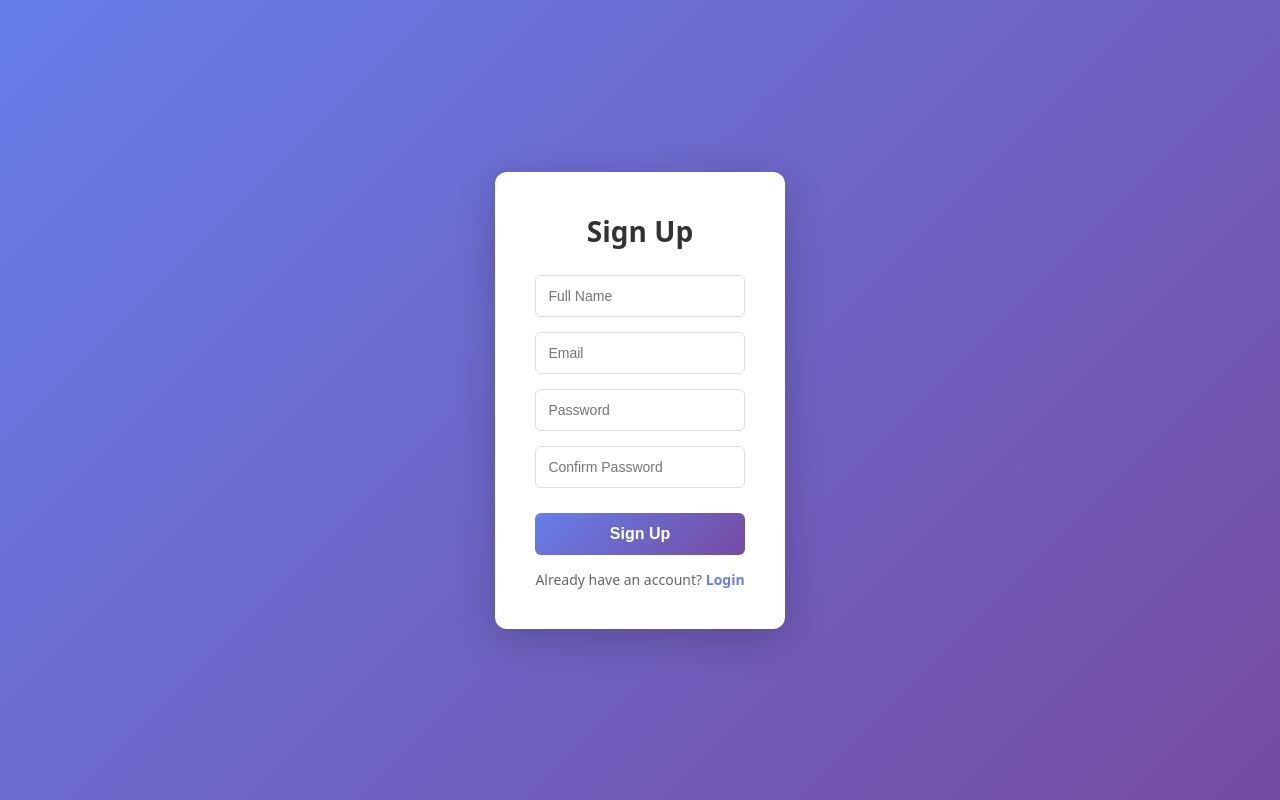
Test: Signup Page (separate file) › submits valid inputs and redirects on success
In the field with placeholder "Full Name": [640, 296] box [535, 274, 745, 316], type "Carol"
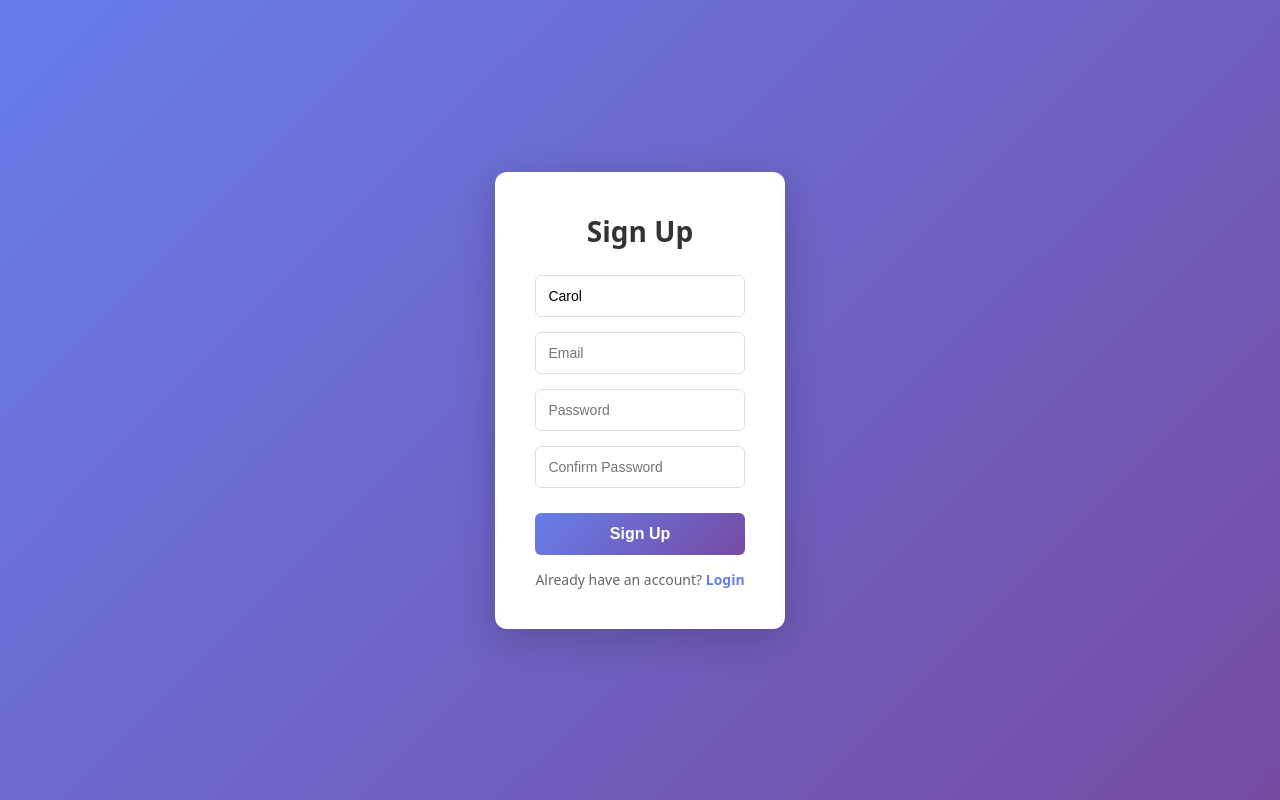
In the field with placeholder "Email": [640, 352] box [535, 332, 745, 374], type "carol@example.com"
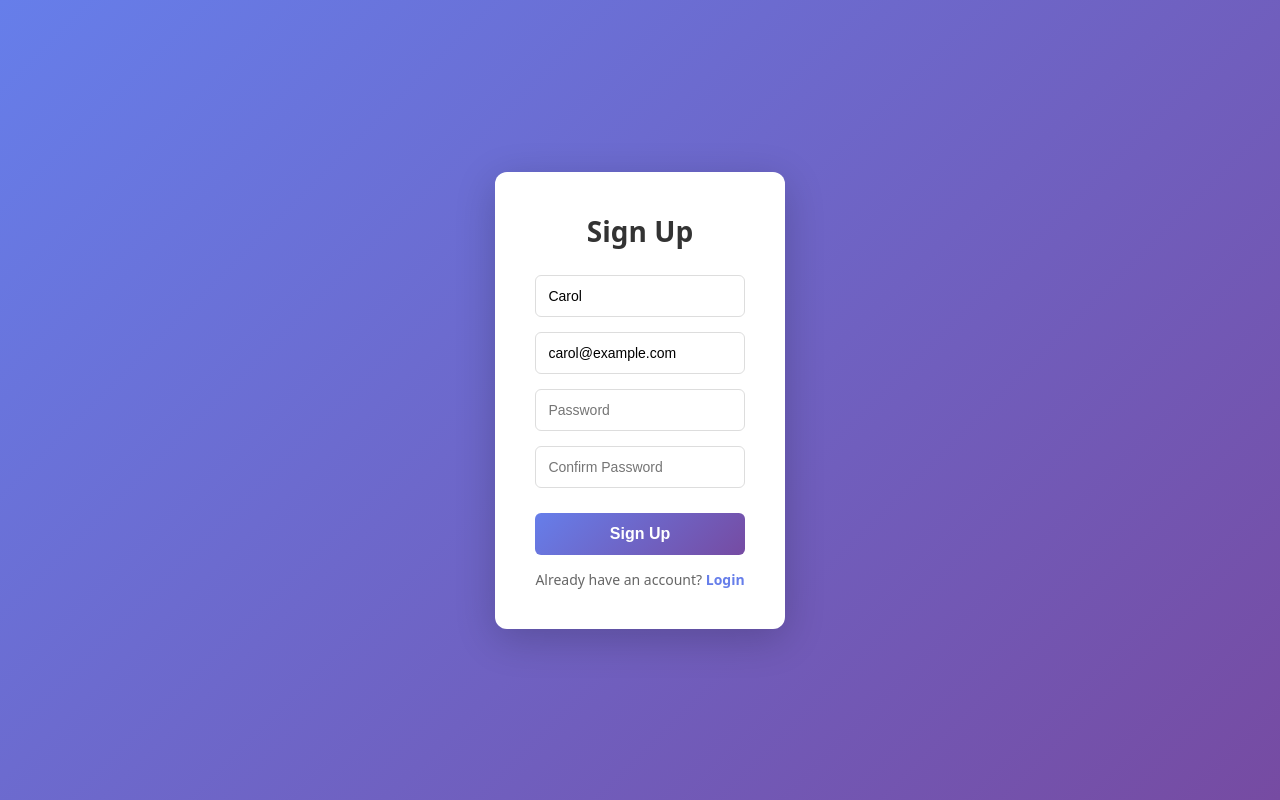
In the password field with placeholder "Password": [640, 410] box [535, 388, 745, 430], type "password"
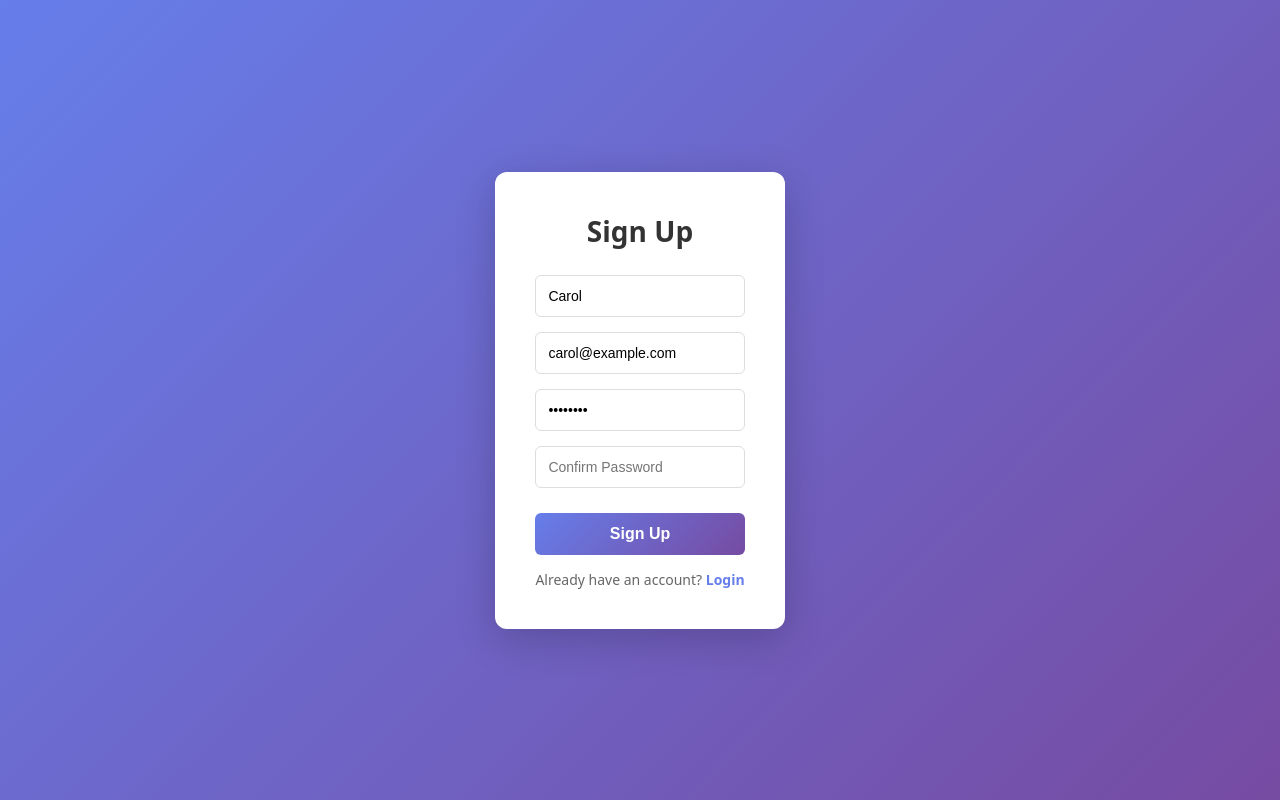
In the password field with placeholder "Confirm Password": [640, 466] box [535, 446, 745, 488], type "password"
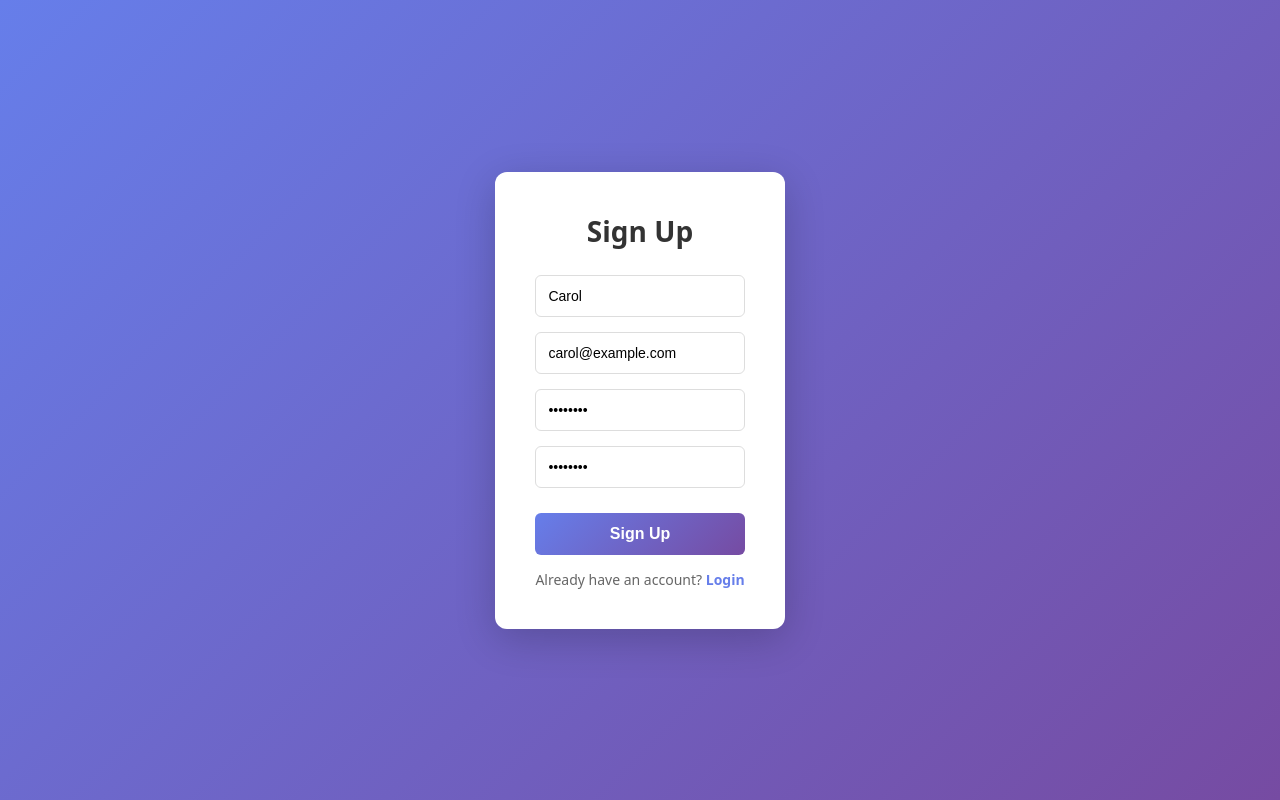
Click the button "Sign Up": [640, 534] box [535, 512, 745, 554]
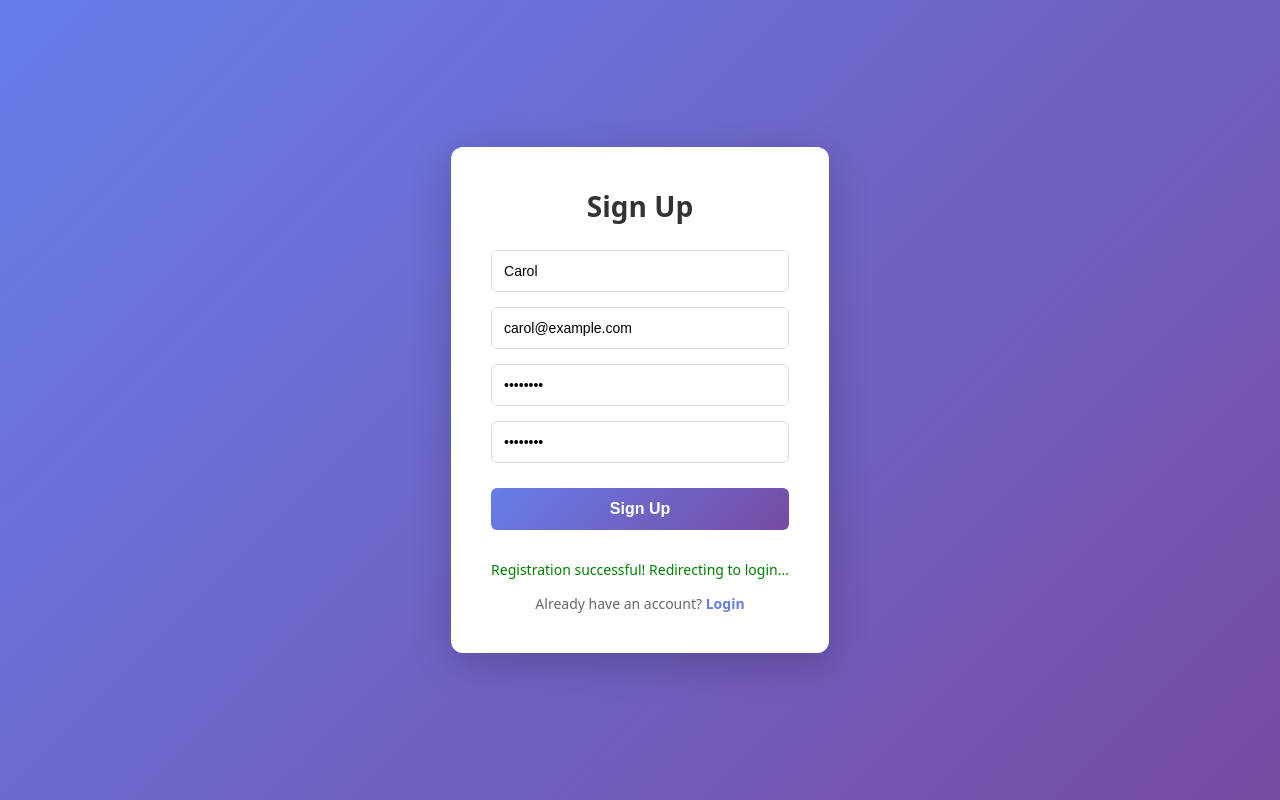
Expected: the text "Registration successful! Redirecting to login..." is shown, [491, 560, 789, 579]
